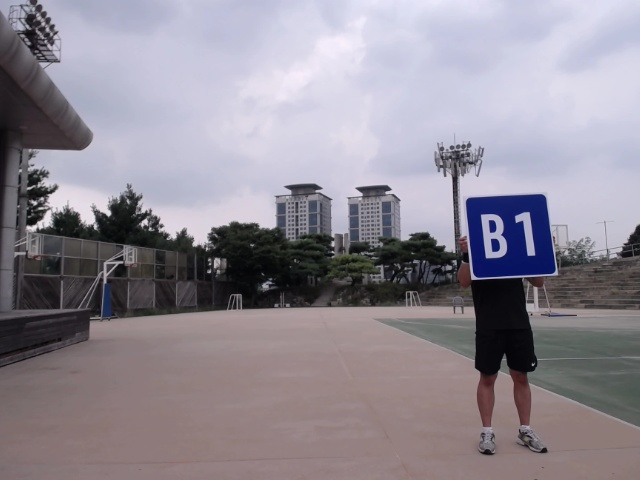delivery_b1: (464, 193, 557, 279)
